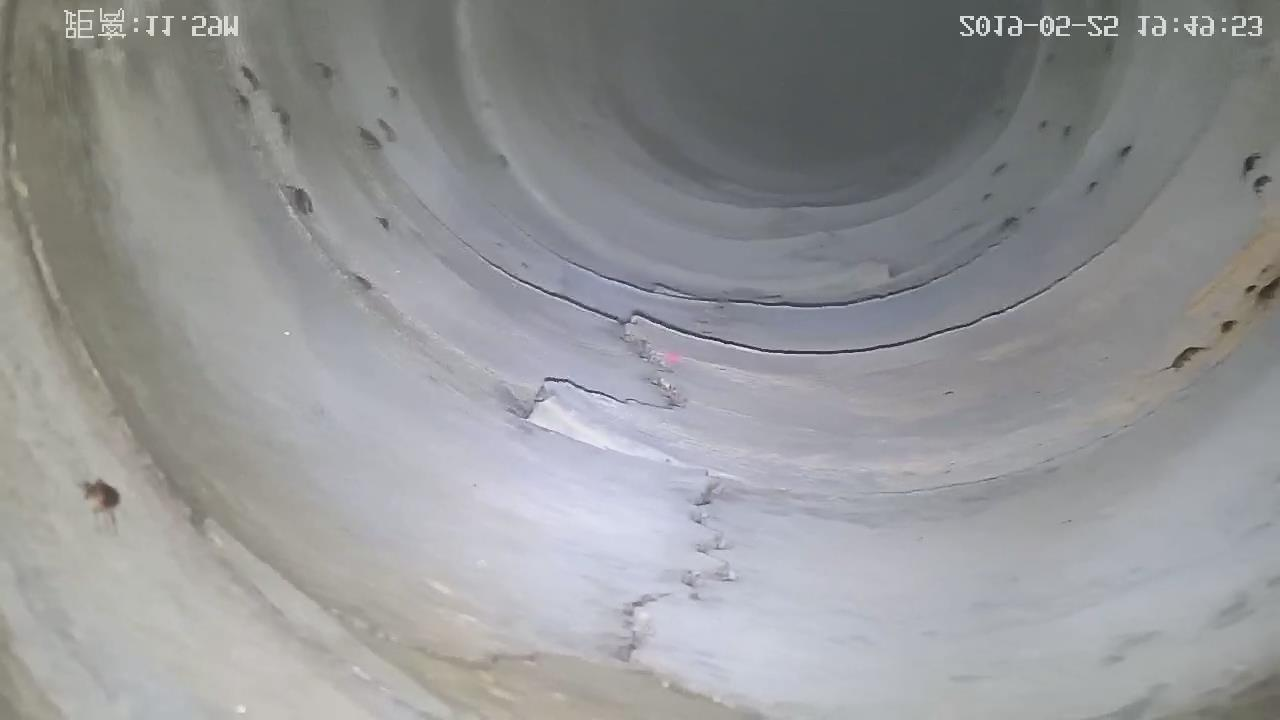PL: (445, 179, 1103, 424), (594, 453, 762, 679)
